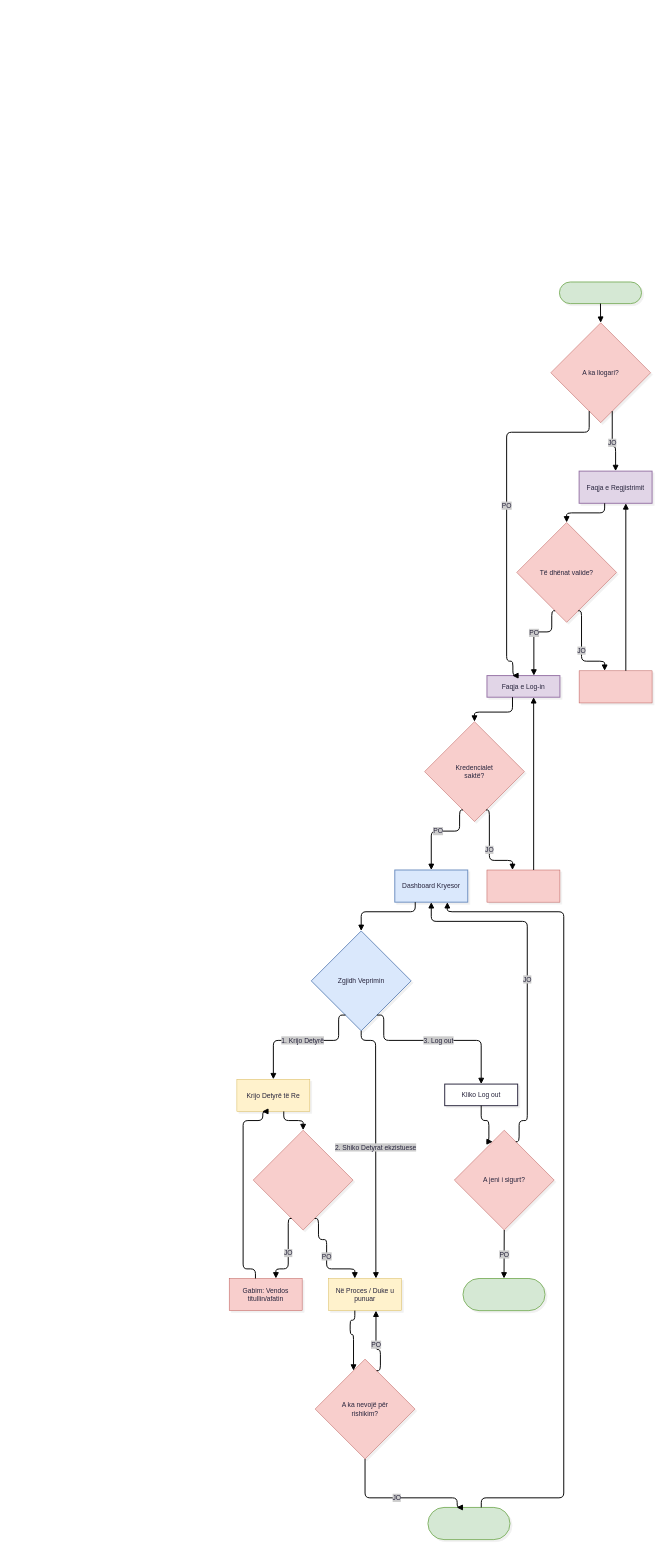
This 662x1550 diagram has some shape labels left out. Each missing label, with the centre of its shape:
A janë të gjitha të dhënat?: pixel 304 1181
Detyra e Përfunduar: pixel 469 1524
Fillimi: pixel 601 293
Seksioni u mbyll / Faqja Kryesore: pixel 504 1295
Shfaq Gabim: Pasword i gabuar: pixel 524 887
Shfaq Gabim: Plotëso fushat: pixel 616 687
